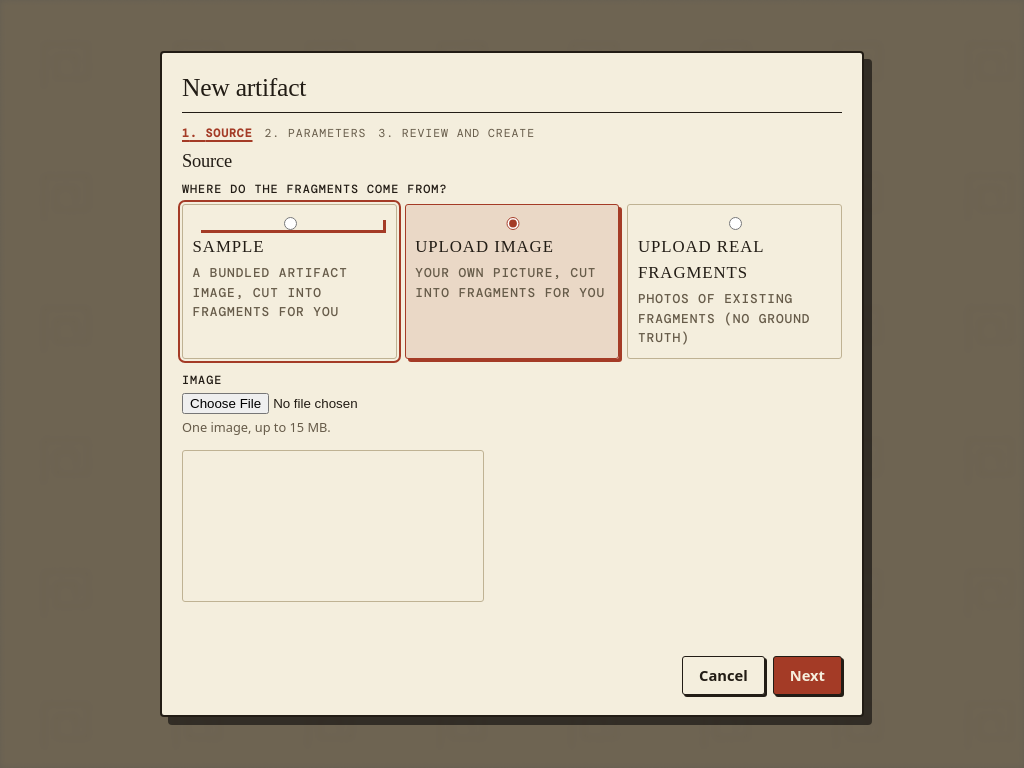
Test case: ArtifactWizard — validation › requires an image, and rejects non-images and oversize files, next to the field
Earlier steps of the test are not shown.
Later steps or results of the test are not shown.
Click the button "Next".
click(807, 676)  # box top-left (773, 656), bottom-right (842, 695)
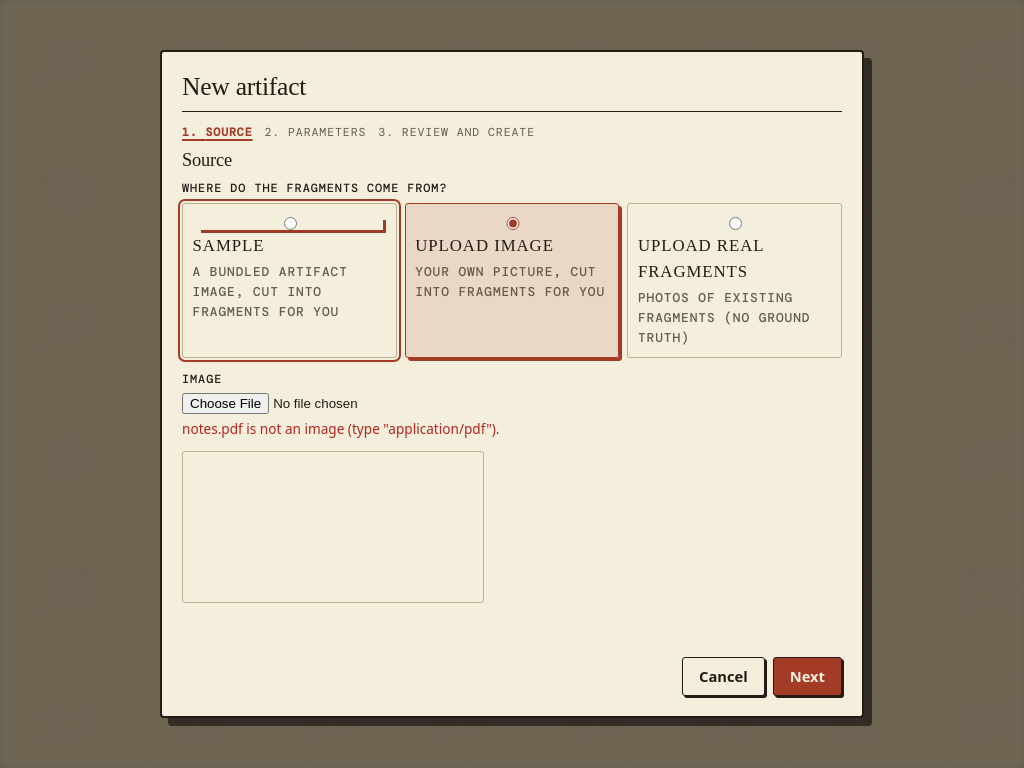
Result: the text "notes.pdf is not an image (type \"application/pdf\")." is shown at top-left (182, 419), bottom-right (500, 438)
